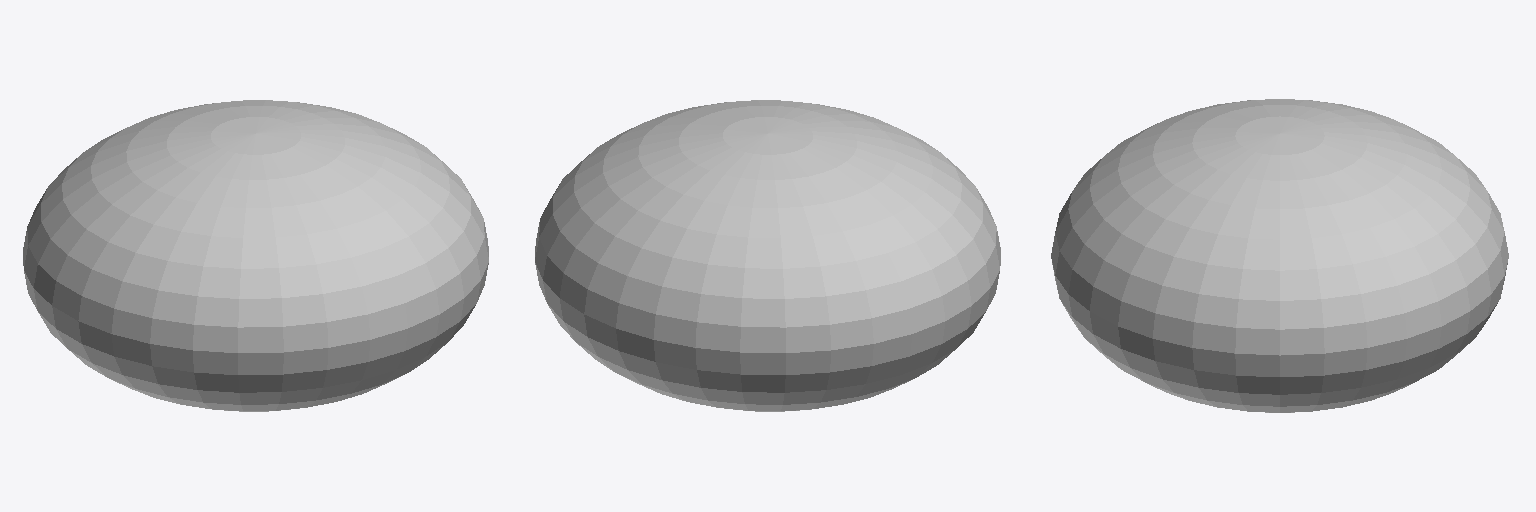
The model's file is zalaznia.obj.
3 views of the same model, side by side, from view 1: azimuth 30°, elevation 25°; view 2: azimuth 150°, elevation 25°; view 3: azimuth 270°, elevation 25° (orthographic).
Parts seen in each view (by area): view 1: Kula; view 2: Kula; view 3: Kula.
Boxes of the visible parts, x1,y1,x2,y2 form: Kula: [23, 100, 488, 411]; Kula: [535, 100, 1000, 411]; Kula: [1051, 99, 1508, 412].
Size of the model in its own units: 1 by 0.5751 by 0.9752.